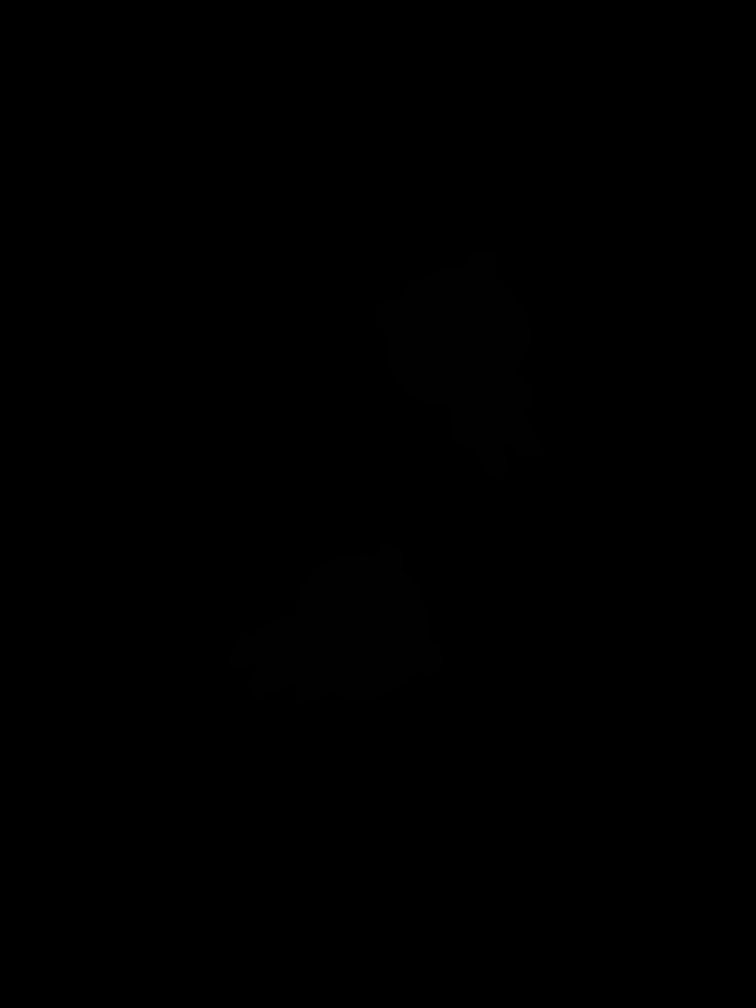bear: (219, 526, 449, 717), (366, 243, 546, 476)
